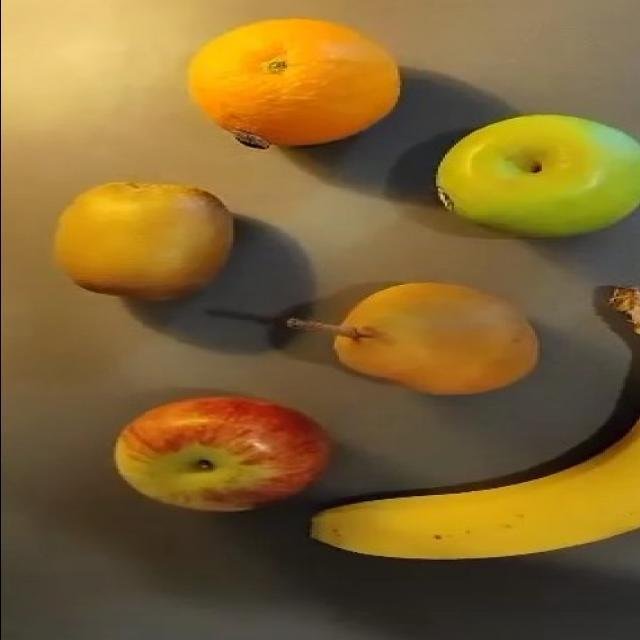Apple: (113, 394, 332, 512), (434, 112, 639, 238)
Banana: (308, 417, 639, 560)
Orange: (186, 16, 401, 149)
